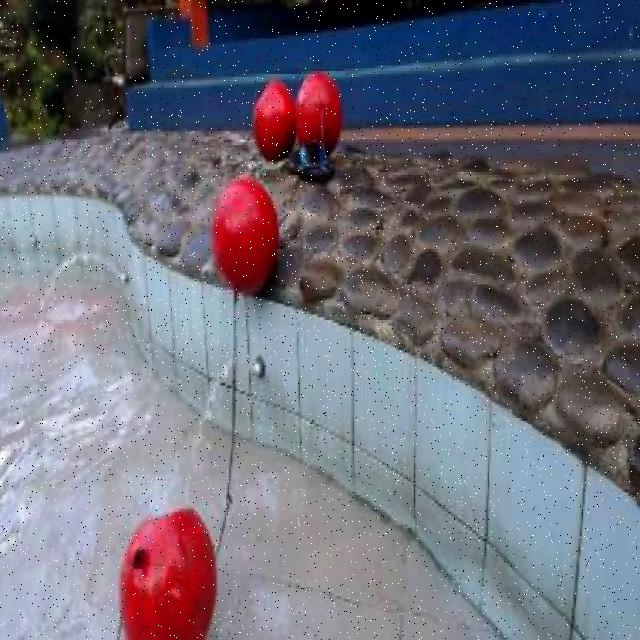buoy: (119, 502, 217, 636), (212, 176, 277, 294), (294, 71, 340, 159), (252, 79, 296, 156)
